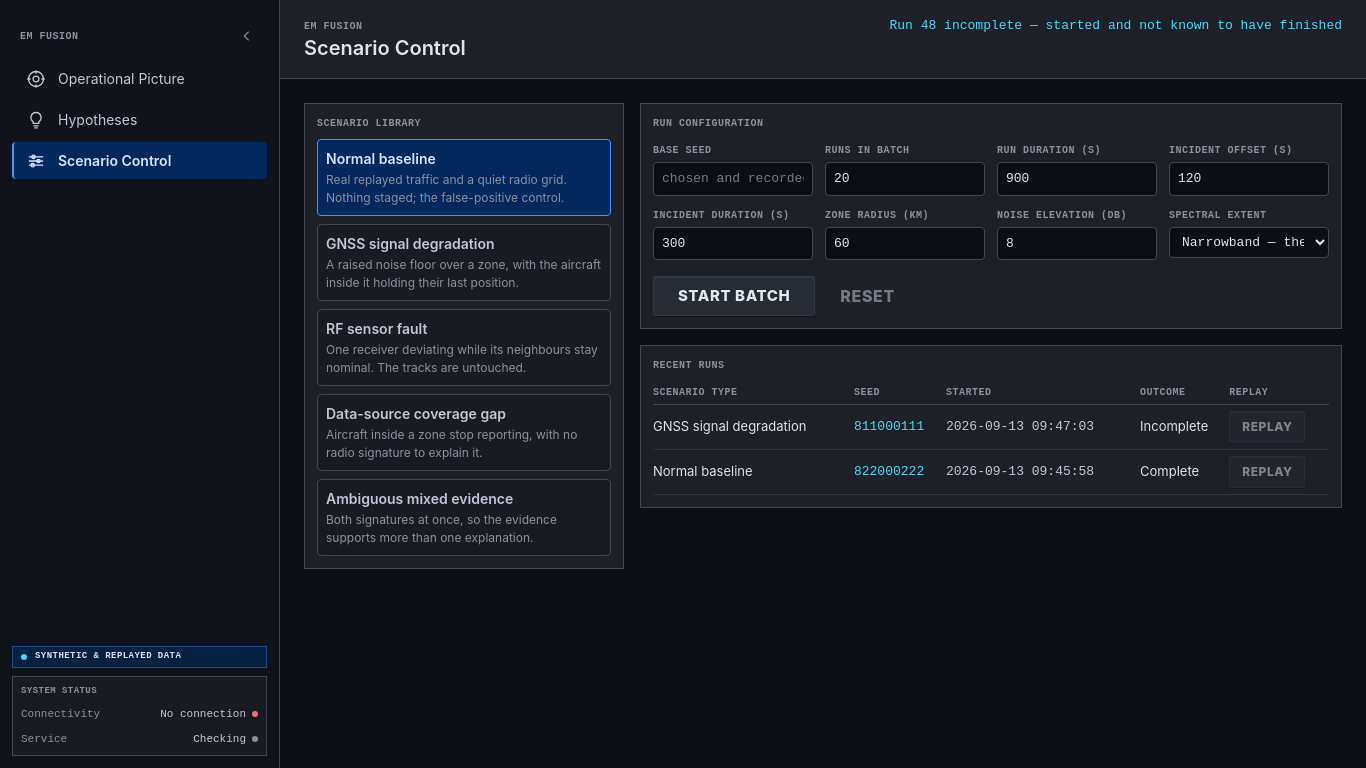
Test: a batch that is already running › says what is already running, and that the button comes back
What coordinates should you click on to do the following:
click the button "Start batch"
I would click on:
 (734, 296)
Its box is 653,276 -> 815,316.
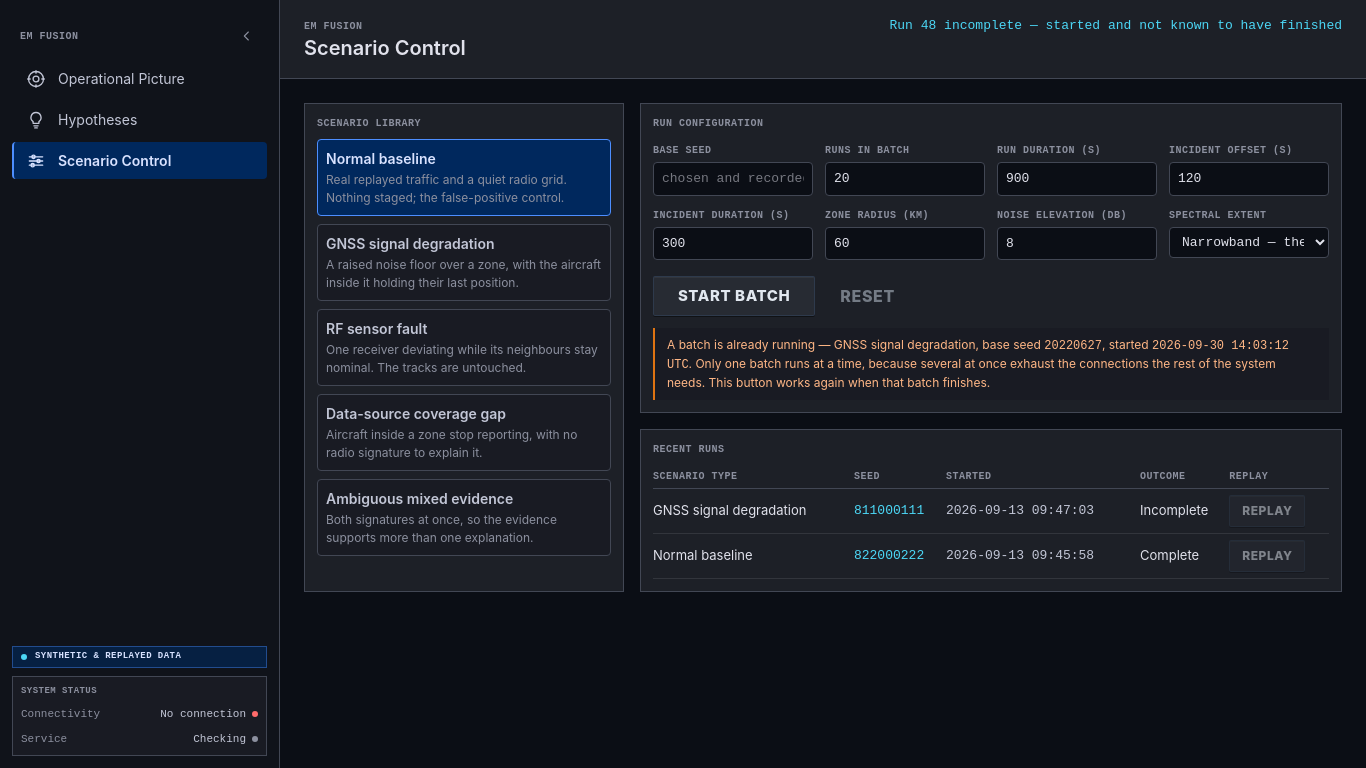
expect the message that starts with "A batch is already running —" is shown: met, box 667,337 -> 834,352
expect the message that starts with "A batch is already running —" shows "GNSS signal degradation": met, box 834,337 -> 976,352
expect the message that starts with "A batch is already running —" shows "20220627": met, box 1044,339 -> 1102,353
